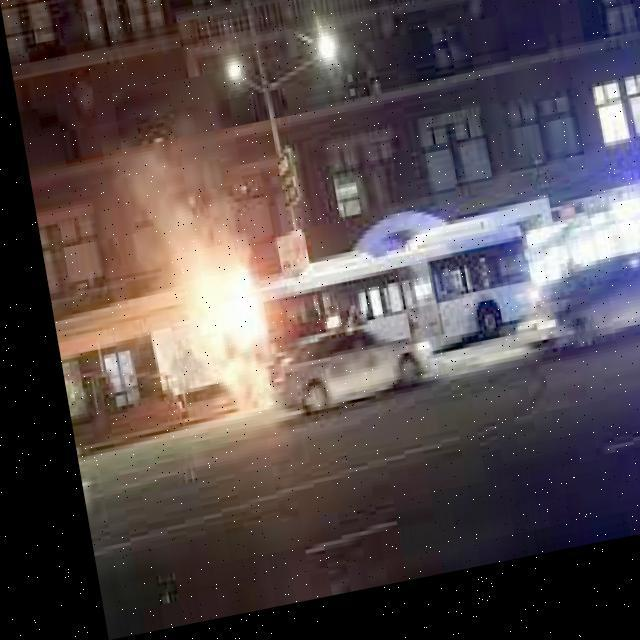Fire: (127, 186, 276, 440)
